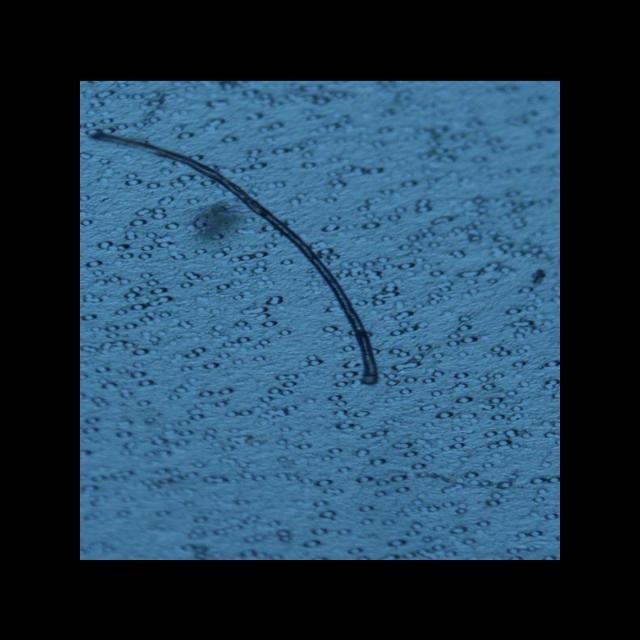Fibre: (84, 129, 382, 385)
